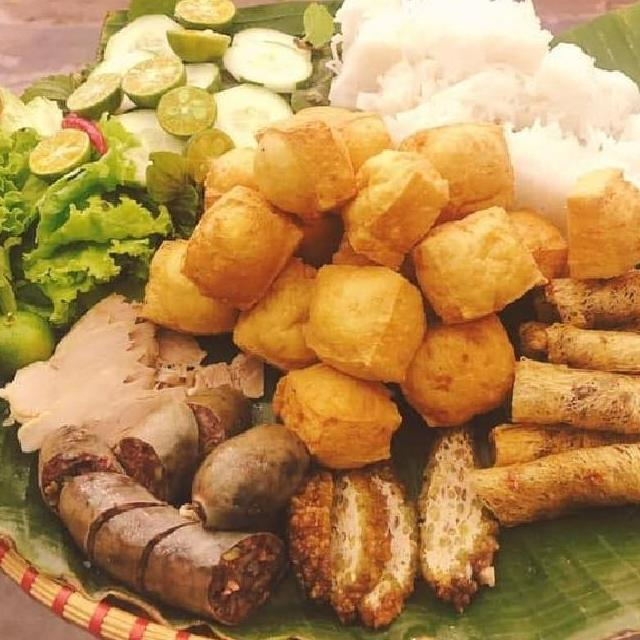bun: (311, 0, 640, 225)
bun dau: (0, 0, 640, 640)
cha com: (282, 463, 429, 634), (406, 424, 508, 619)
cha gio: (455, 252, 640, 530)
dau hu: (196, 142, 352, 269), (402, 199, 554, 329), (176, 179, 308, 318), (298, 255, 432, 390), (333, 142, 458, 277), (390, 307, 526, 431), (222, 251, 352, 378), (268, 356, 408, 471), (384, 113, 520, 224), (130, 231, 254, 341), (246, 115, 362, 225), (274, 99, 396, 183), (559, 162, 640, 283)
doi sun: (27, 416, 294, 629), (101, 377, 258, 517), (170, 417, 320, 545), (174, 413, 316, 540)
thit heo: (0, 280, 272, 462)
